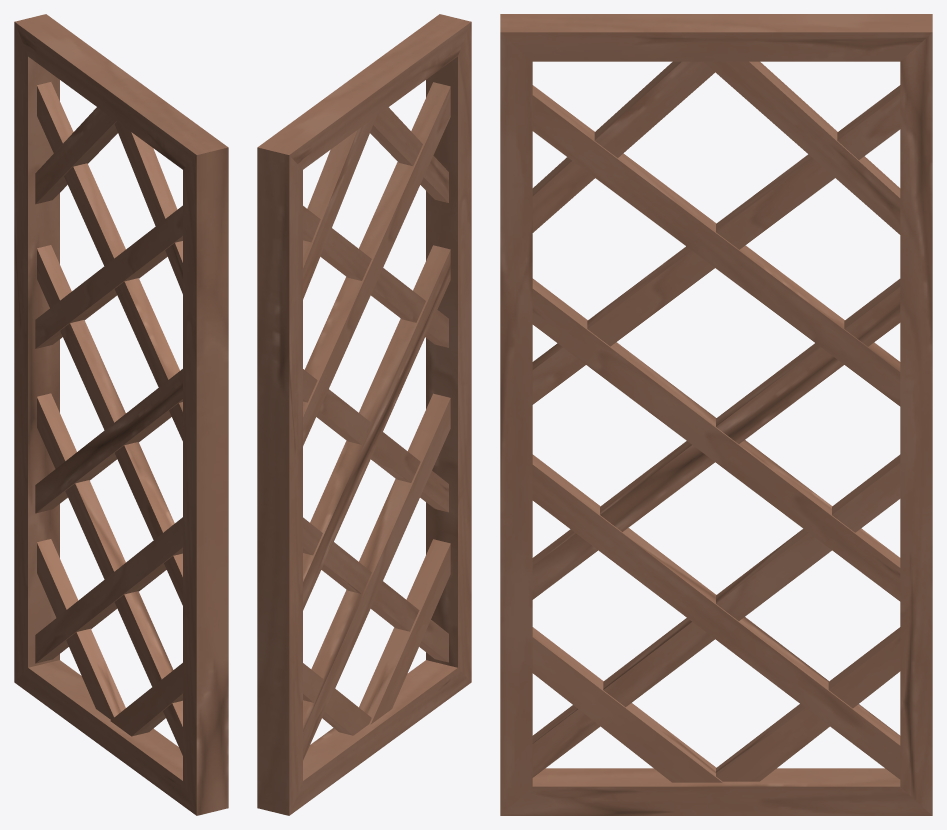
Rendered from SM_wooden_grid_01.fbx.
3 renders of one model, left to right at view 1: azimuth 30°, elevation 25°; view 2: azimuth 150°, elevation 25°; view 3: azimuth 270°, elevation 25°, orthographic. The views are drawn at different scales.
Parts seen in each view (by area): view 1: SM_wooden_grid_01_LOD0; view 2: SM_wooden_grid_01_LOD0; view 3: SM_wooden_grid_01_LOD0.
Boxes of the visible parts, x1,y1,x2,y2 form: SM_wooden_grid_01_LOD0: (14, 14, 228, 815); SM_wooden_grid_01_LOD0: (257, 14, 471, 815); SM_wooden_grid_01_LOD0: (500, 14, 932, 815).
Size of the model in its own units: 20.11 by 200 by 400.
